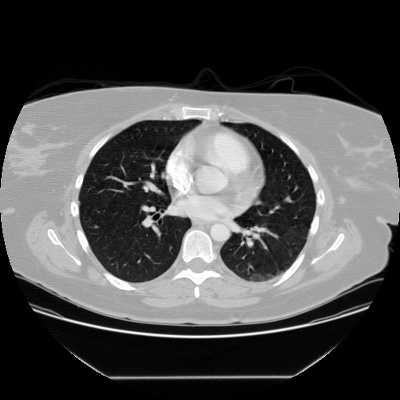PN: (93, 223, 99, 229)
